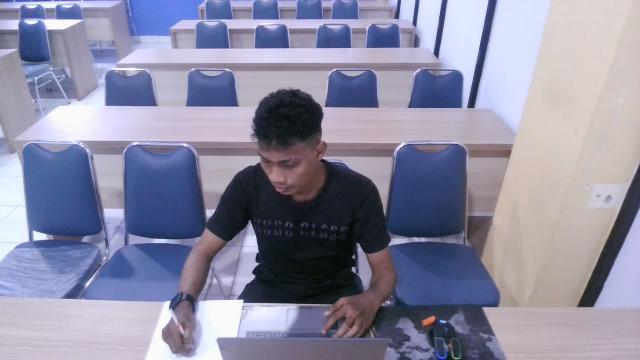Normal_Writing: (145, 84, 410, 360)
